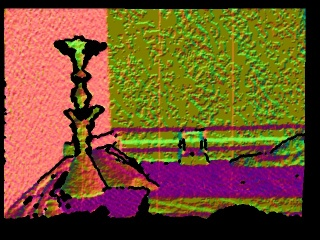station: (177, 128, 209, 166)
